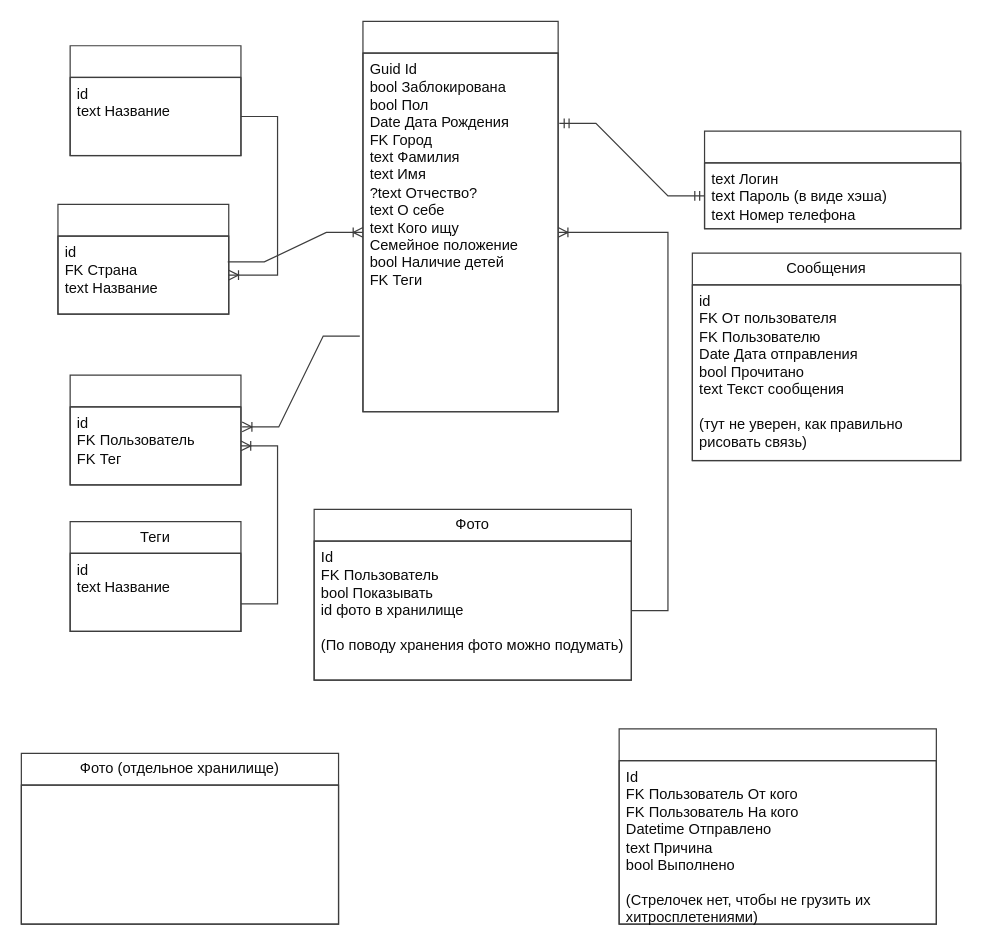
Some shapes in this 982 by 949 pixel diagram are drawn without their labels. The box of each missing label's shape, as (x1, y1, x2, y2) in pixels:
Guid Id Guid UserId - Ид пользователя Binary Data - файл фото: (20, 784, 339, 924)
Города: (57, 203, 229, 314)
Жалобы: (618, 728, 936, 924)
Персональные данные: (703, 130, 961, 229)
Пользователи: (362, 20, 558, 412)
Страны: (69, 45, 241, 156)
Теги пользователей: (69, 374, 241, 485)
